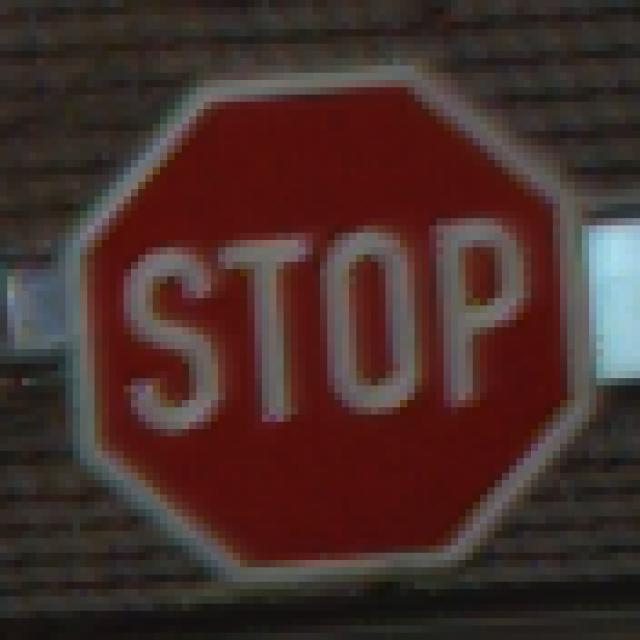STOP: (59, 59, 590, 590)
